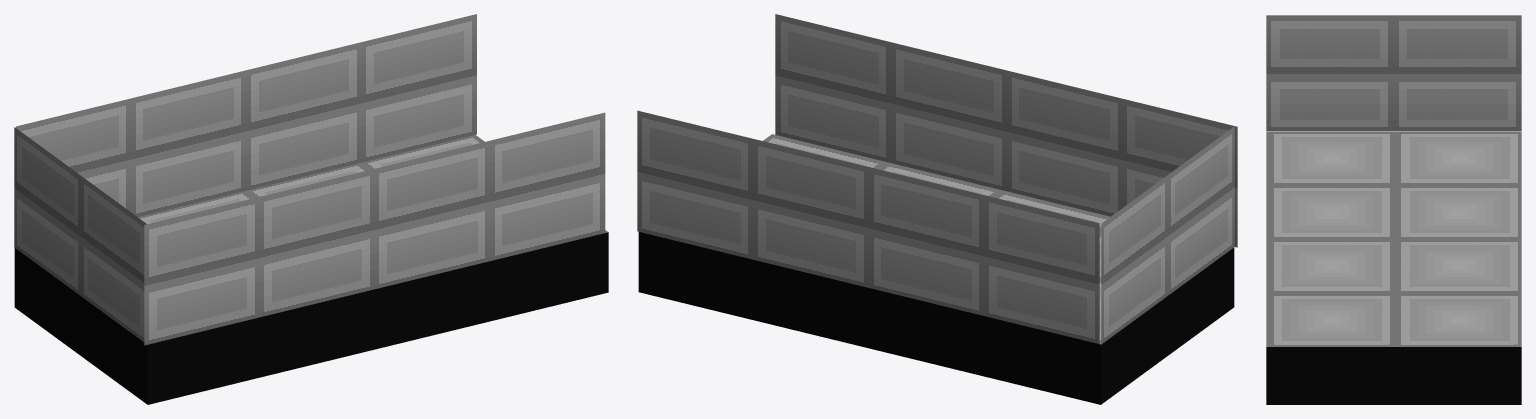
Rendered from StartingRoomMaybe.gltf.
3 renders of one model, left to right at view 1: azimuth 30°, elevation 25°; view 2: azimuth 150°, elevation 25°; view 3: azimuth 270°, elevation 25°, orthographic. The views are drawn at different scales.
Parts seen in each view (by area): view 1: StartingRoomMaybe; view 2: StartingRoomMaybe; view 3: StartingRoomMaybe.
Boxes of the visible parts, <box> form: StartingRoomMaybe: <box>14,14,608,404</box>; StartingRoomMaybe: <box>637,14,1237,404</box>; StartingRoomMaybe: <box>1266,15,1521,404</box>.
Size of the model in its own units: 8.08 by 3 by 4.
2 materials, 1 textured.
